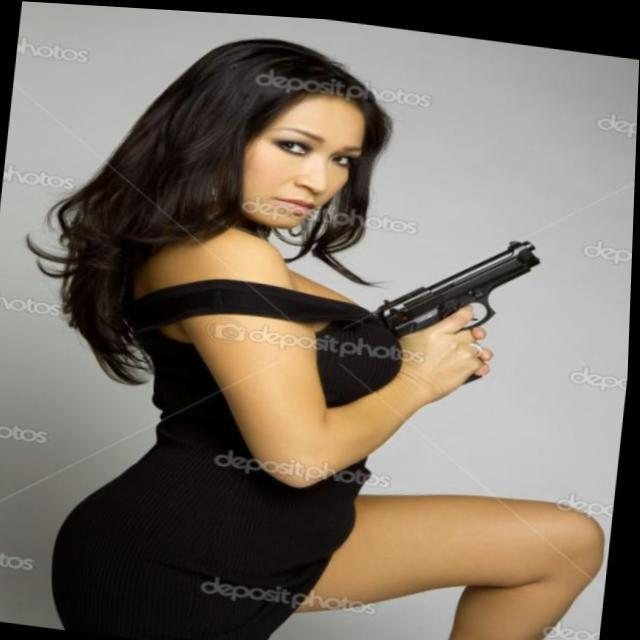weapon: (365, 215, 544, 386)
